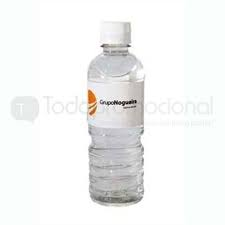Botella: (88, 22, 144, 204)
Botellas: (87, 22, 144, 204)
